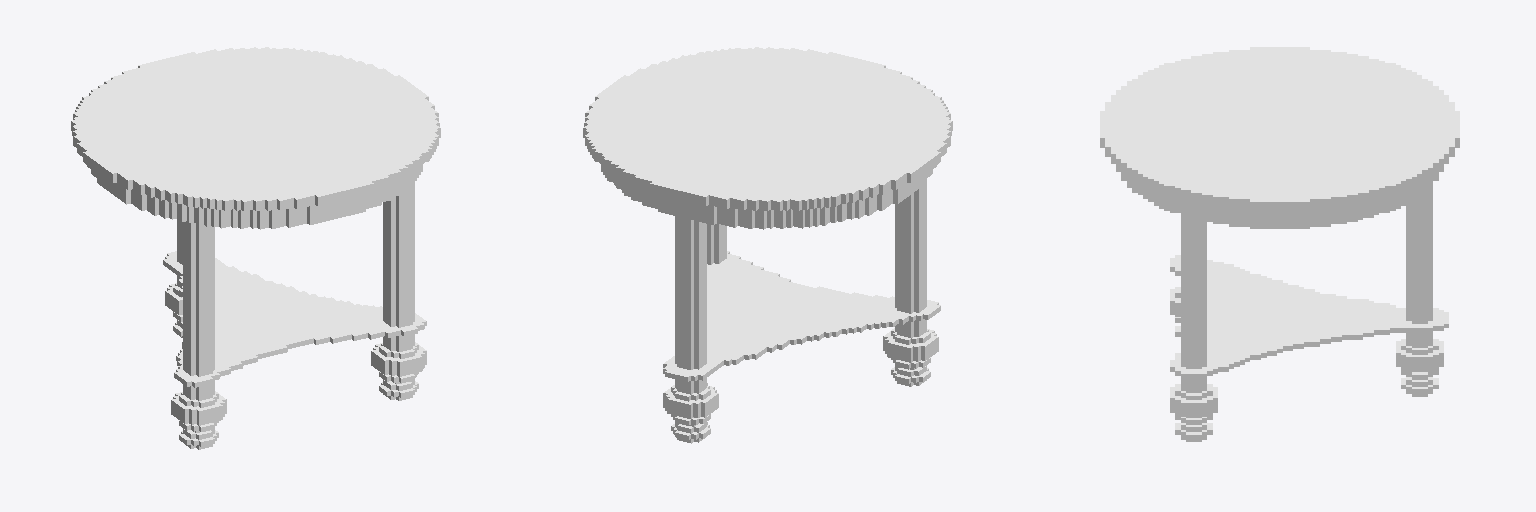
The model's file is tableBasse.obj.
The picture shows the model from 3 angles: view 1: azimuth 30°, elevation 25°; view 2: azimuth 150°, elevation 25°; view 3: azimuth 270°, elevation 25°; orthographic projection.
Parts seen in each view (by area): view 1: object 1; view 2: object 1; view 3: object 1.
Part boxes in pixels (x1,y1,x2,y2): object 1: (71, 47, 440, 449); object 1: (583, 47, 952, 443); object 1: (1100, 47, 1459, 441).
Size of the model in its own units: 6.8 by 5.4 by 6.7.